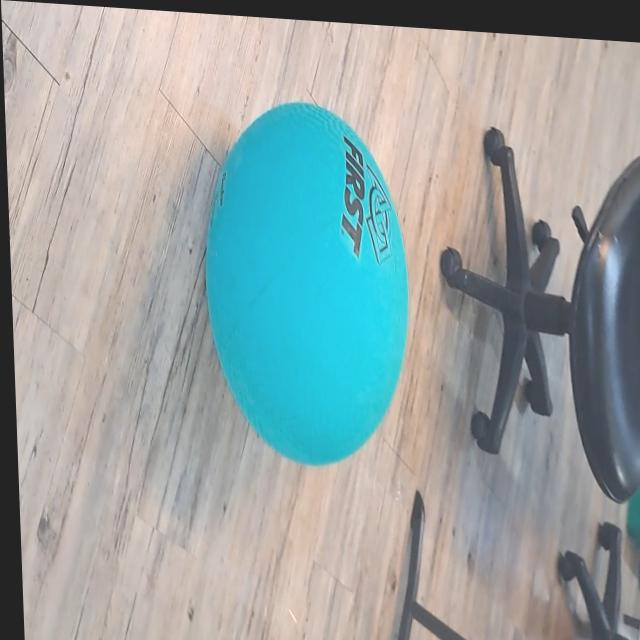ALGAE: (197, 92, 417, 475)
